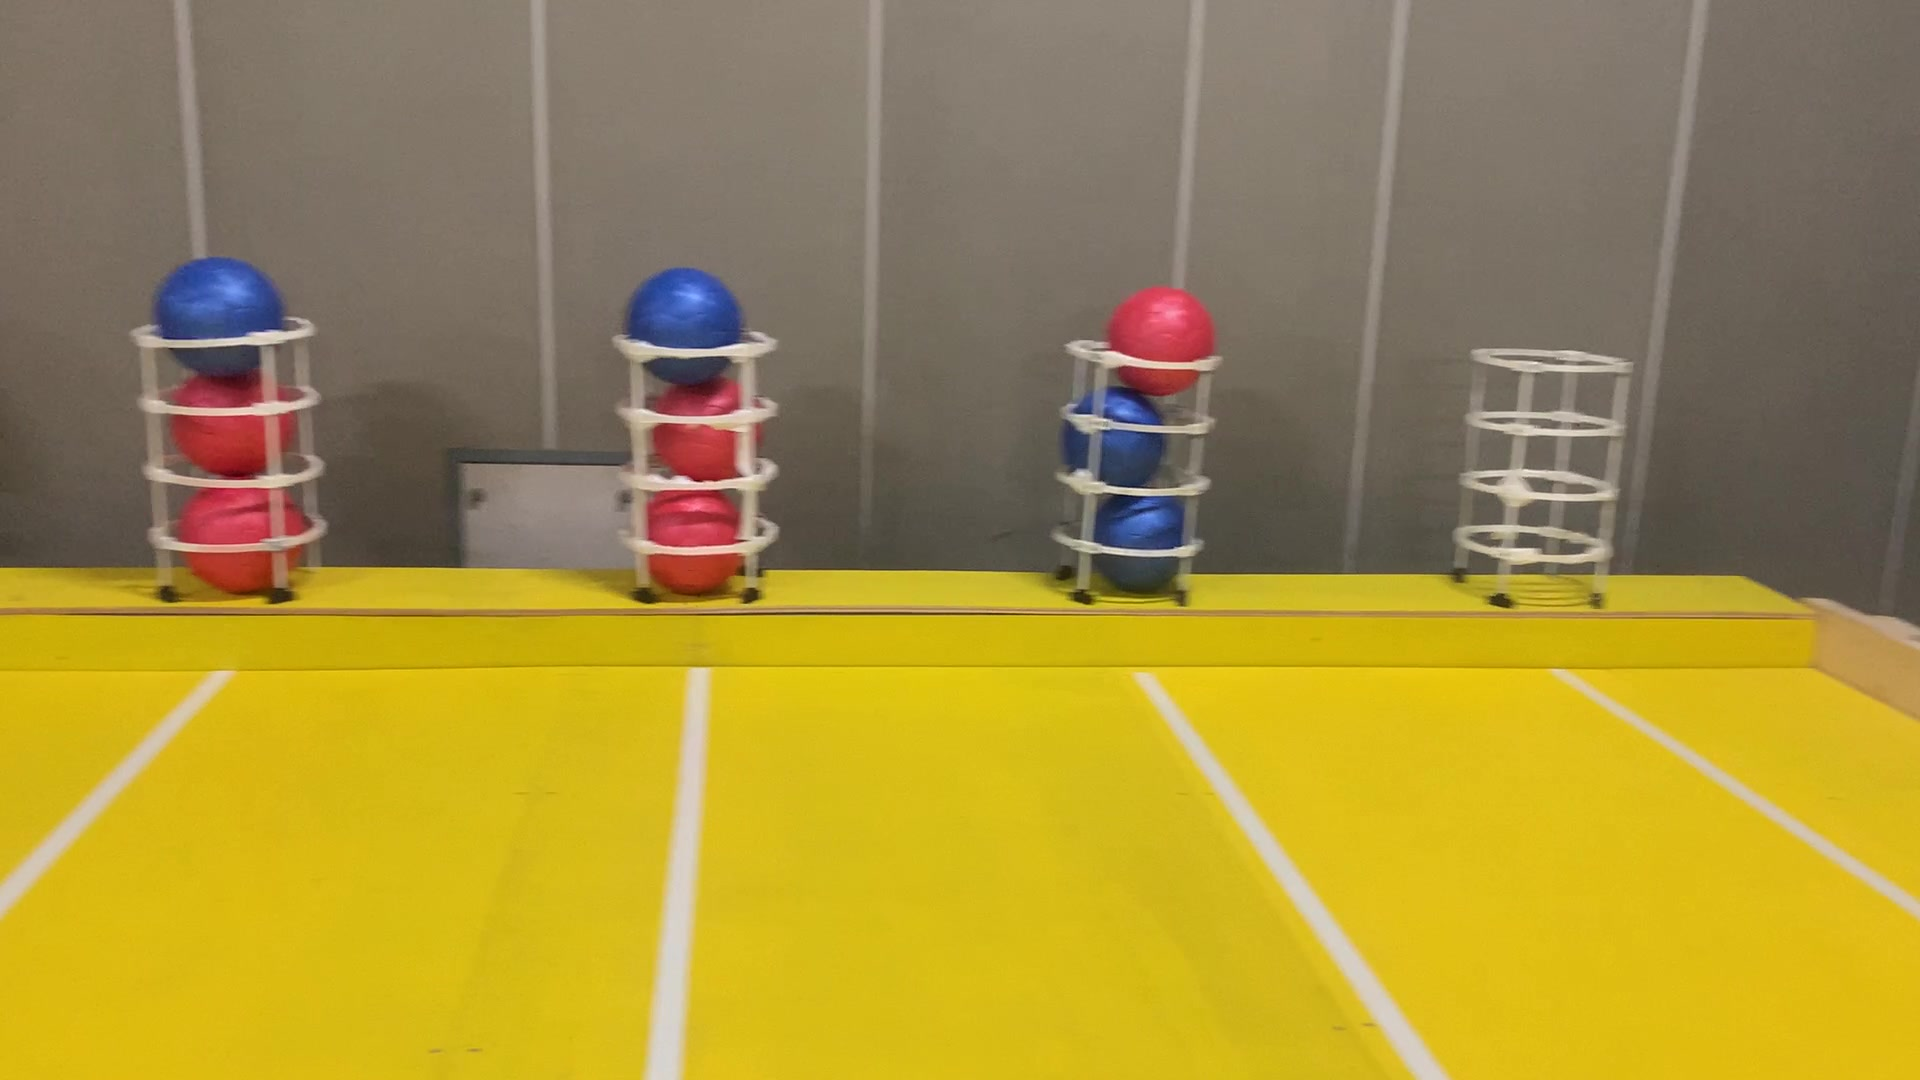blue: (153, 255, 282, 376), (625, 264, 744, 389), (1080, 480, 1189, 589), (1058, 382, 1167, 487)
red: (161, 355, 295, 477), (175, 476, 307, 593), (640, 371, 756, 487), (633, 480, 750, 592), (1101, 286, 1217, 398)
